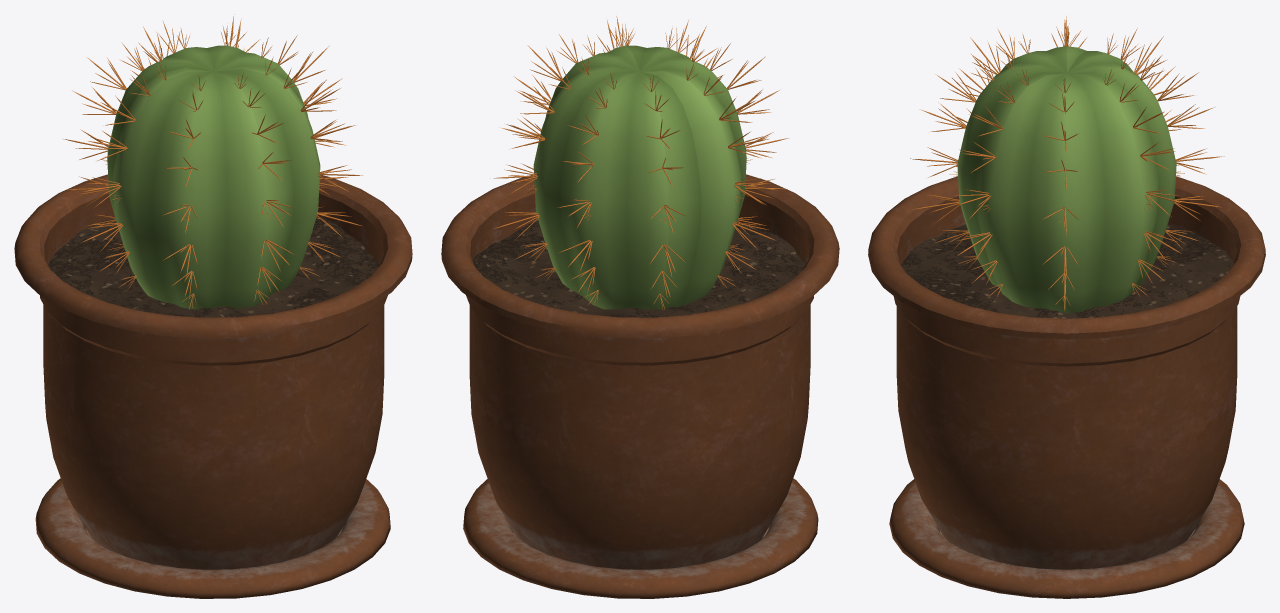
File: cactus.obj
The picture shows the model from 3 angles, left to right: view 1: azimuth 30°, elevation 25°; view 2: azimuth 150°, elevation 25°; view 3: azimuth 270°, elevation 25°; orthographic projection.
Visible parts, largest first — view 1: Gorshok, Kaktus, Bludce, Ground.001, Igla.005, Igla.001, Igla.006, Igla, Igla.007, Igla.002; view 2: Gorshok, Kaktus, Bludce, Ground.001, Igla.003, Igla.006, Igla.007, Igla.004, Igla.002, Igla.005; view 3: Gorshok, Kaktus, Bludce, Ground.001, Igla, Igla.004, Igla.001, Igla.003, Igla.002, Igla.005, Igla.007.
Boxes of the visible parts, box(x1,y1,x2,y2) form: Gorshok: box(14, 174, 412, 569); Kaktus: box(107, 45, 320, 309); Bludce: box(35, 478, 390, 598); Ground.001: box(48, 216, 379, 317); Igla.005: box(63, 42, 161, 256); Igla.001: box(265, 57, 362, 278); Igla.006: box(79, 62, 166, 289); Igla: box(234, 72, 294, 304); Igla.007: box(163, 74, 205, 309); Igla.002: box(261, 35, 349, 241); Gorshok: box(441, 174, 839, 569); Kaktus: box(533, 45, 746, 309); Bludce: box(463, 478, 818, 598); Ground.001: box(472, 221, 805, 317); Igla.003: box(494, 58, 588, 280); Igla.006: box(686, 64, 777, 287); Igla.007: box(692, 43, 788, 255); Igla.004: box(557, 73, 616, 304); Igla.002: box(506, 34, 594, 216); Igla.005: box(644, 75, 685, 309); Gorshok: box(868, 176, 1265, 569); Kaktus: box(957, 46, 1176, 313); Bludce: box(889, 479, 1244, 598); Ground.001: box(901, 224, 1233, 318); Igla: box(910, 50, 1013, 269); Igla.004: box(1121, 50, 1224, 266); Igla.001: box(955, 69, 1028, 298); Igla.003: box(1103, 69, 1181, 295); Igla.002: box(1042, 78, 1078, 310); Igla.005: box(1107, 28, 1181, 175); Igla.007: box(952, 29, 1030, 166).
Bounding box in the file's own units: 0.1081 × 0.1443 × 0.1079.
Materials: 4 (3 with a texture image).
